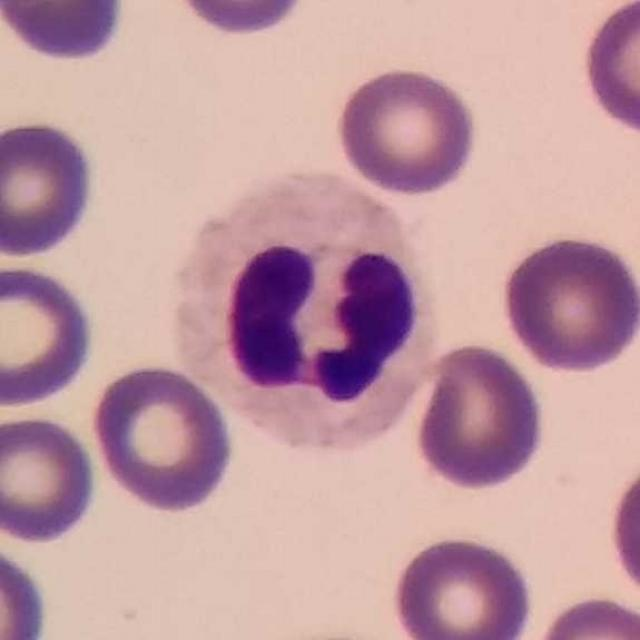Neutrophil: (166, 160, 432, 468)
RBC: (87, 358, 239, 518), (408, 340, 548, 494), (496, 230, 640, 376), (332, 62, 482, 198), (388, 531, 538, 640), (0, 258, 100, 412), (0, 115, 101, 261), (0, 410, 102, 547), (576, 0, 640, 141), (0, 0, 134, 67), (165, 0, 312, 39), (604, 448, 640, 606), (0, 534, 53, 639), (530, 591, 640, 640)
